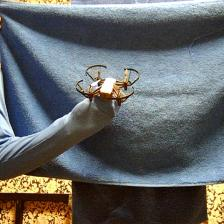drone: (75, 63, 140, 105)
